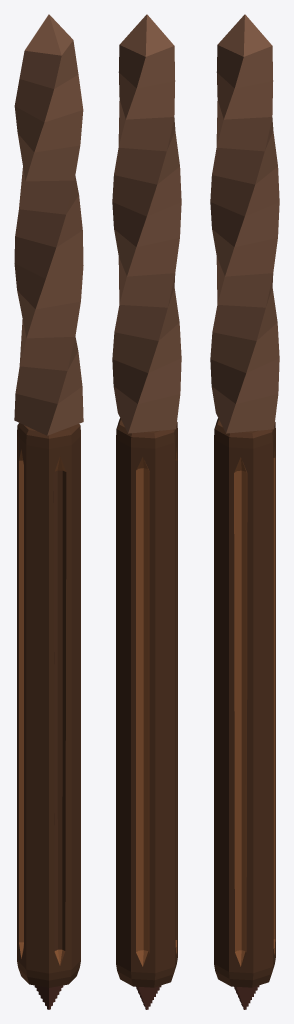
Rendered from Wand 554.glb.
3 renders of one model, left to right at view 1: azimuth 90°, elevation 25°; view 2: azimuth 150°, elevation 25°; view 3: azimuth 330°, elevation 25°, orthographic.
Parts seen in each view (by area): view 1: GeneratedWand; view 2: GeneratedWand; view 3: GeneratedWand.
Part boxes in pixels (left/top/right/bottom): GeneratedWand: left=14, top=14, right=83, bottom=1009; GeneratedWand: left=112, top=14, right=181, bottom=1009; GeneratedWand: left=210, top=14, right=279, bottom=1009.
Bounding box in the file's own units: 0.0311 × 0.4939 × 0.0311.
